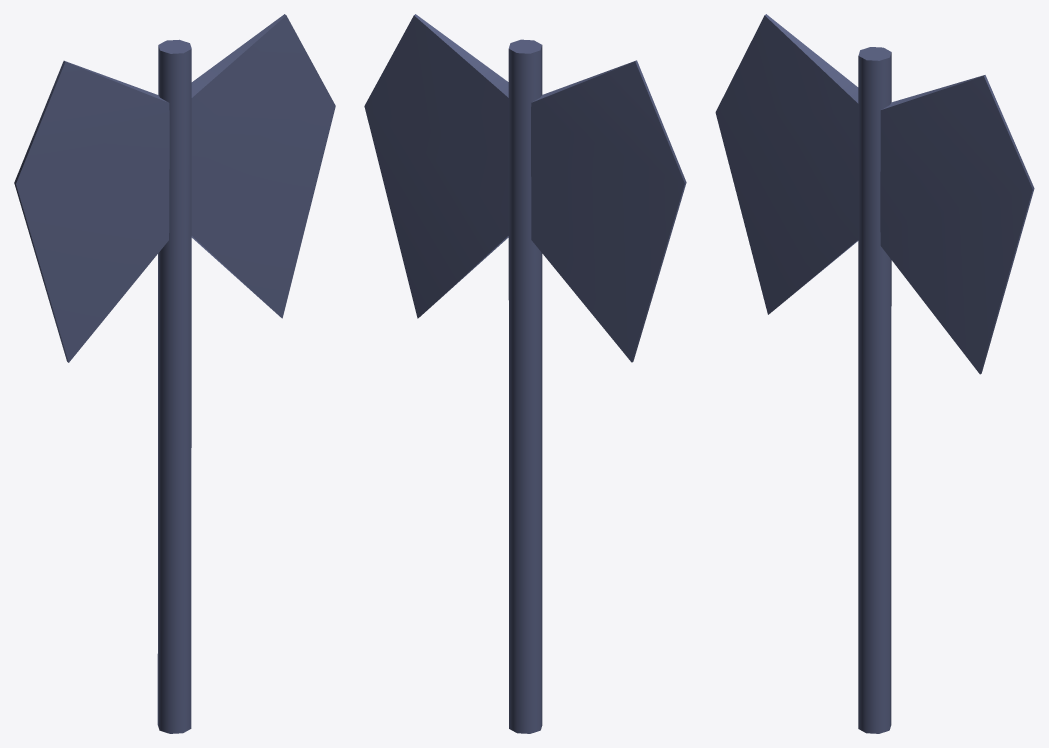
File: Greataxe_mesh.fbx
3 renders of one model, left to right at view 1: azimuth 30°, elevation 25°; view 2: azimuth 150°, elevation 25°; view 3: azimuth 330°, elevation 25°, orthographic.
Visible parts, largest first — view 1: Axe_Mesh; view 2: Axe_Mesh; view 3: Axe_Mesh.
Boxes of the visible parts, x1,y1,x2,y2 form: Axe_Mesh: (14,14,335,733); Axe_Mesh: (364,14,686,733); Axe_Mesh: (715,14,1034,733).
Size of the model in its own units: 114 by 10.77 by 236.
